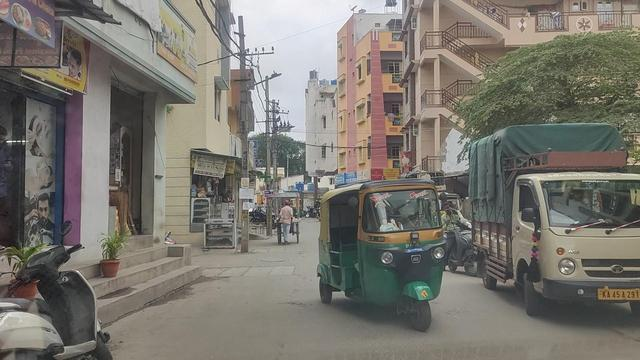HMV: (457, 132, 640, 303)
LMV: (320, 186, 437, 327)
RoadDamages: (209, 261, 295, 280)
